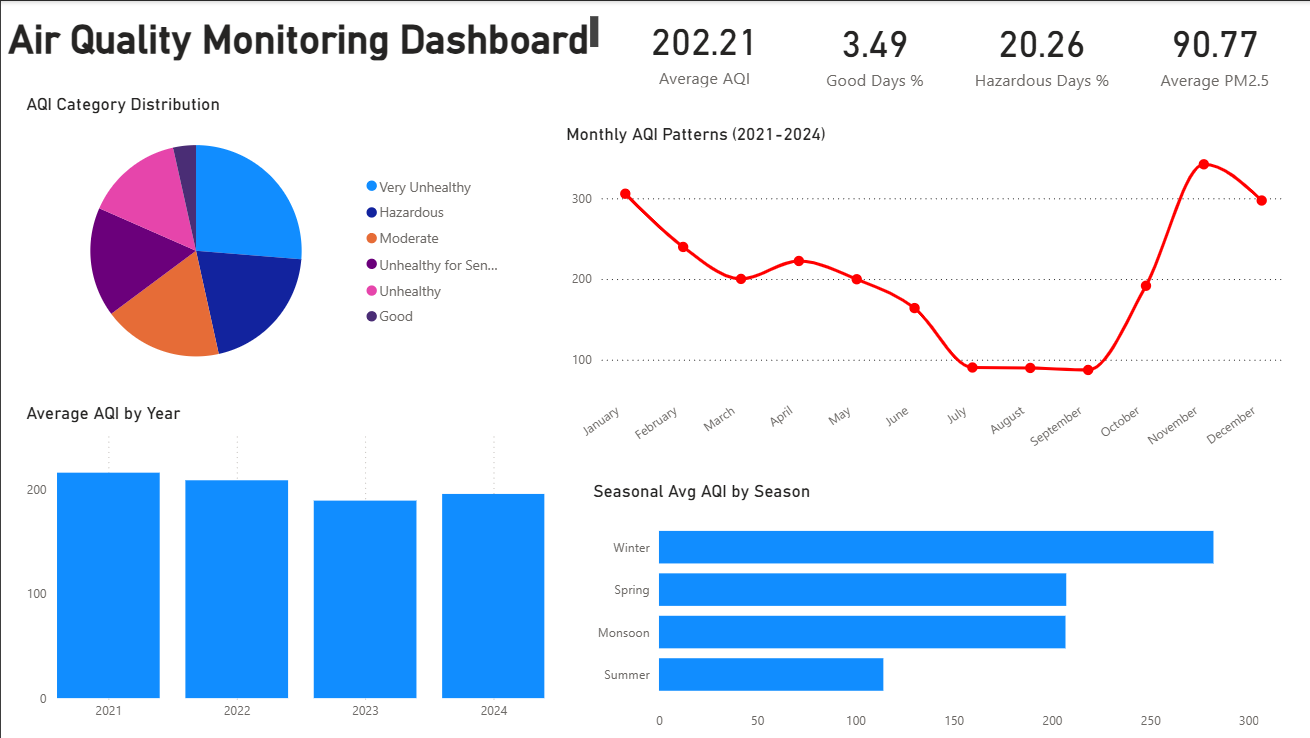

The dashboard page shown, as its layout file describes it:
{"tool":"powerbi","page":{"name":"Page 1","canvas":[1280,720],"ordinal":0},"visuals":[{"type":"card","fields":{"Values":["final_dataset.Average AQI"]},"box":[599.1,3.9,170.2,85.6],"z":0},{"type":"card","fields":{"Values":["final_dataset.Hazardous Days %"]},"box":[928.9,3.9,167.3,89.5],"z":1000},{"type":"card","fields":{"Values":["final_dataset.Good Days %"]},"box":[780.1,3.9,140.1,89.5],"z":2000},{"type":"card","fields":{"Values":["final_dataset.Average PM2.5"]},"box":[1106.9,3.9,147.8,89.5],"z":3000},{"type":"pieChart","title":"AQI Category Distribution","fields":{"Category":["final_dataset.AQI_Category"],"Y":["CountNonNull(final_dataset.AQI_Category_Rank)"]},"box":[18.5,89.5,484.4,287.9],"z":4000},{"type":"lineChart","title":"Monthly AQI Patterns (2021-2024)","fields":{"Category":["final_dataset.Month_Name"],"Y":["final_dataset.Average AQI"]},"box":[543.7,118.7,711,338.5],"z":5000},{"type":"columnChart","fields":{"Y":["final_dataset.Average AQI"],"Category":["final_dataset.Date_Full.Variation.Date Hierarchy.Year"]},"box":[18.5,390,516.5,319],"z":6000},{"type":"barChart","fields":{"Category":["final_dataset.Season"],"Y":["final_dataset.Seasonal Avg AQI"]},"box":[570,465.9,659.5,252.9],"z":7000},{"type":"textbox","box":[0,8.8,587.5,55.4],"z":8000}]}

Visuals, with their boxes in screenshot pixels (x1, y1, x2, y2), scaled from the page's 1280x720 canvas onto the 1310x738 screenshot:
card - final_dataset.Average AQI: rect(613, 4, 787, 92)
card - final_dataset.Hazardous Days %: rect(951, 4, 1122, 96)
card - final_dataset.Good Days %: rect(798, 4, 942, 96)
card - final_dataset.Average PM2.5: rect(1133, 4, 1284, 96)
"AQI Category Distribution" pieChart: rect(19, 92, 515, 387)
"Monthly AQI Patterns (2021-2024)" lineChart: rect(556, 122, 1284, 469)
columnChart - final_dataset.Average AQI x final_dataset.Date_Full.Variation.Date Hierarchy.Year: rect(19, 400, 548, 727)
barChart - final_dataset.Season x final_dataset.Seasonal Avg AQI: rect(583, 478, 1258, 737)
textbox: rect(0, 9, 601, 66)
